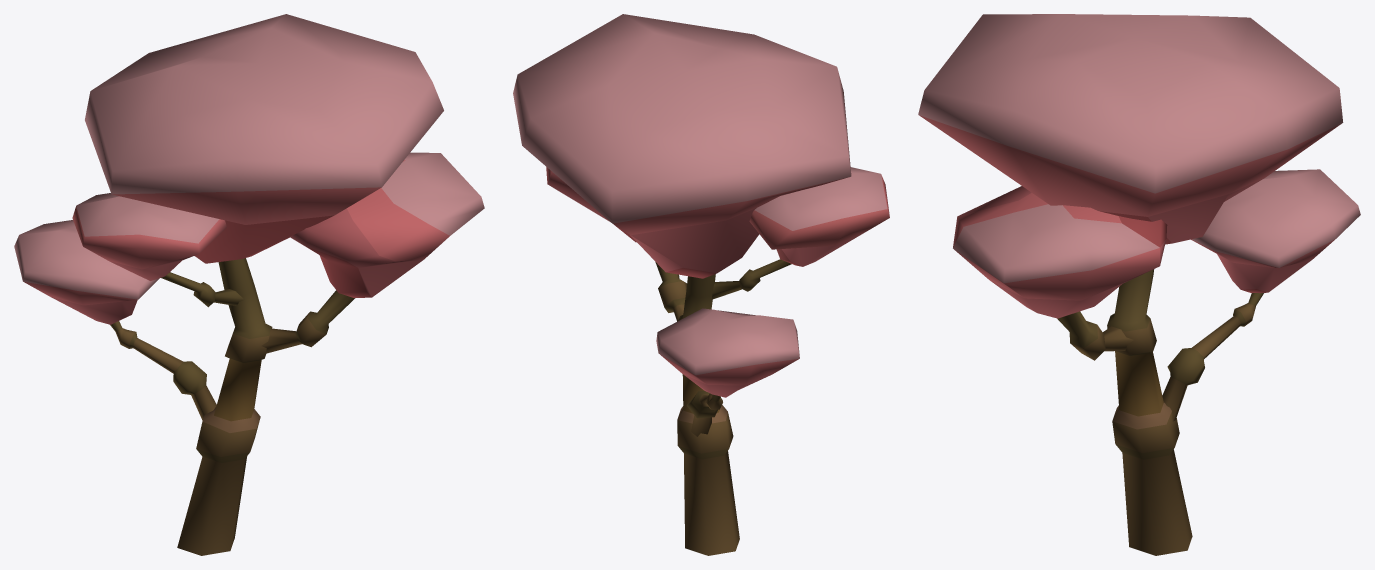
File: TreePink.gltf
3 views of the same model, side by side, from view 1: azimuth 30°, elevation 25°; view 2: azimuth 150°, elevation 25°; view 3: azimuth 270°, elevation 25° (orthographic). The views are drawn at different scales.
Parts seen in each view (by area): view 1: TreePinkA; view 2: TreePinkA; view 3: TreePinkA.
Part boxes in pixels (x1=…): TreePinkA: x1=14, y1=14, x2=484, y2=555; TreePinkA: x1=513, y1=14, x2=889, y2=555; TreePinkA: x1=918, y1=14, x2=1360, y2=555.
Bounding box in the file's own units: 2.81 × 3.55 × 2.67.
